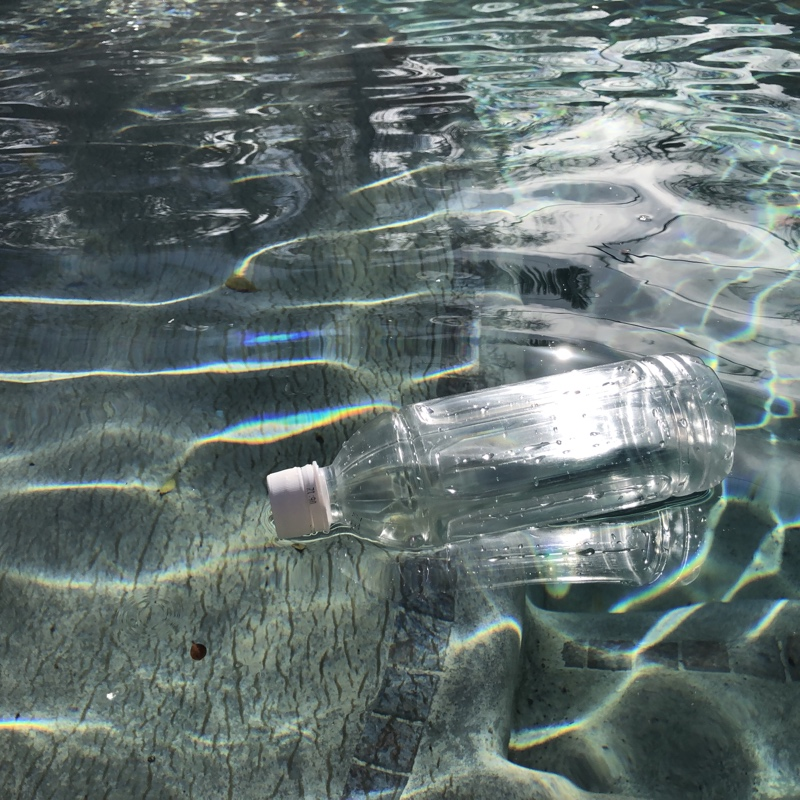Plastic Bottle: (266, 348, 740, 563)
